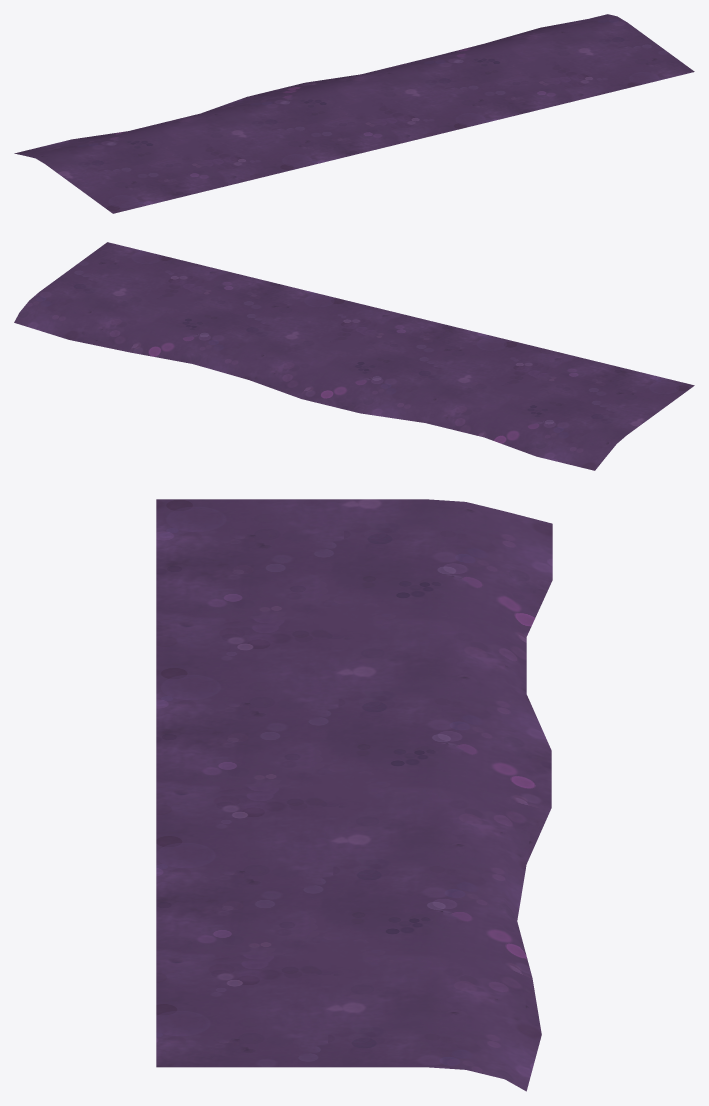
Rendered from sol2.fbx.
3 views of the same model, one above another, from view 1: azimuth 30°, elevation 25°; view 2: azimuth 150°, elevation 25°; view 3: azimuth 270°, elevation 25° (orthographic). The views are drawn at different scales.
Parts seen in each view (by area): view 1: pPlane2; view 2: pPlane2; view 3: pPlane2.
Part boxes in pixels (x1,y1,x2,y2): pPlane2: (14,14,694,213); pPlane2: (14,242,694,470); pPlane2: (156,499,552,1091).
Bounding box in the file's own units: 32.58 × 0.649 × 9.6.
